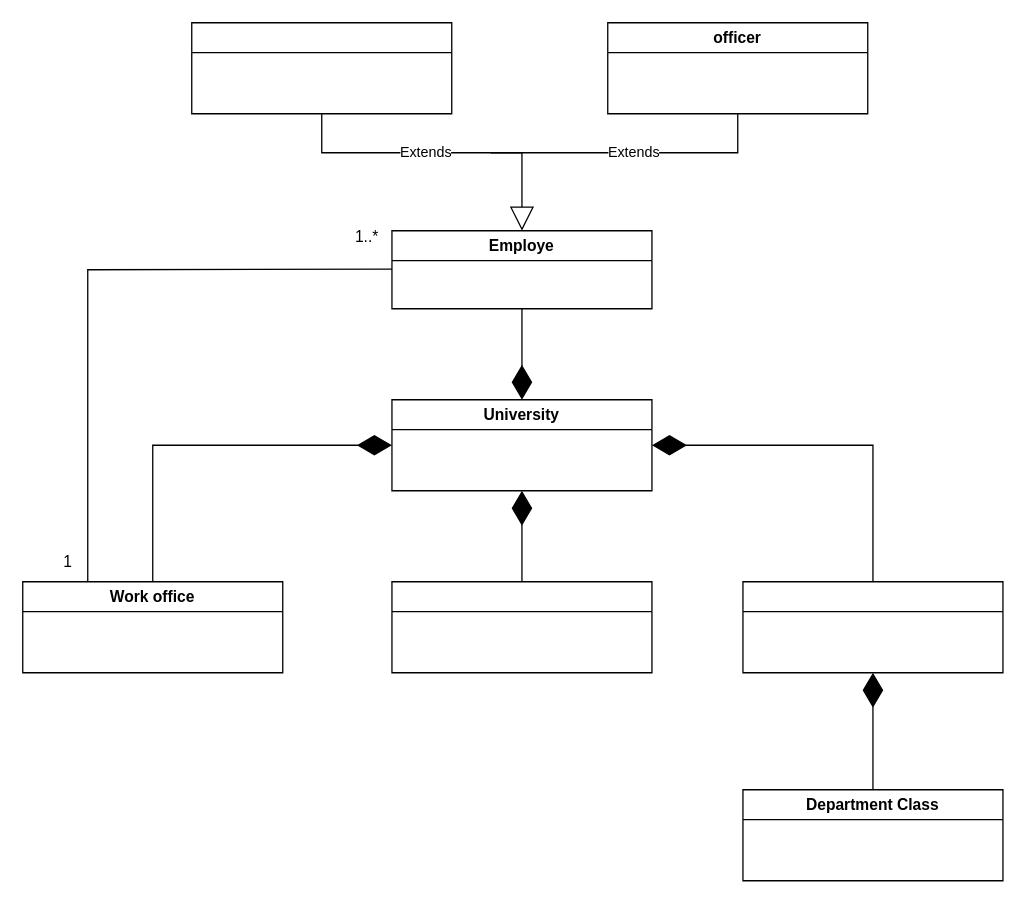
The diagram is 1026 pixels wide and 903 high, and some of its shapes have lost their labels. Here are the shapes that lost their labels. From the top down, the box of each, then its label:
(190, 21, 452, 114): Professor
(391, 580, 652, 673): Class
(742, 580, 1003, 673): Departments
